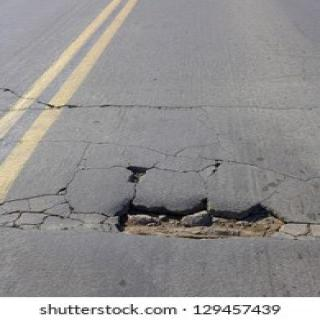pothole: (115, 163, 287, 238)
